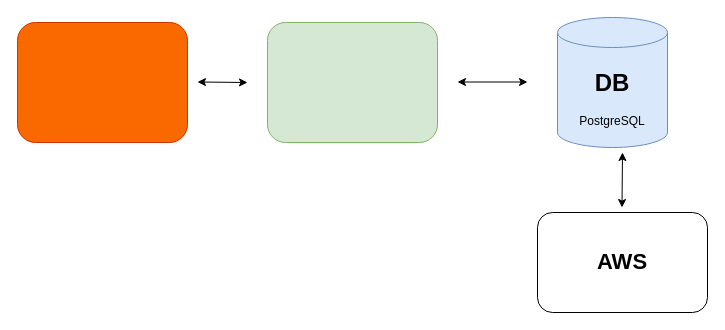
The diagram is 725 pixels wide and 330 high, and some of its shapes have lost their labels. The shapes that lost their labels are listed below. From the top down, each one's centre as x and y in pixels, then its label:
At (x=102, y=82): "UI Web / Mobile App Angular".
At (x=352, y=82): "Backend API Springboot Java".
